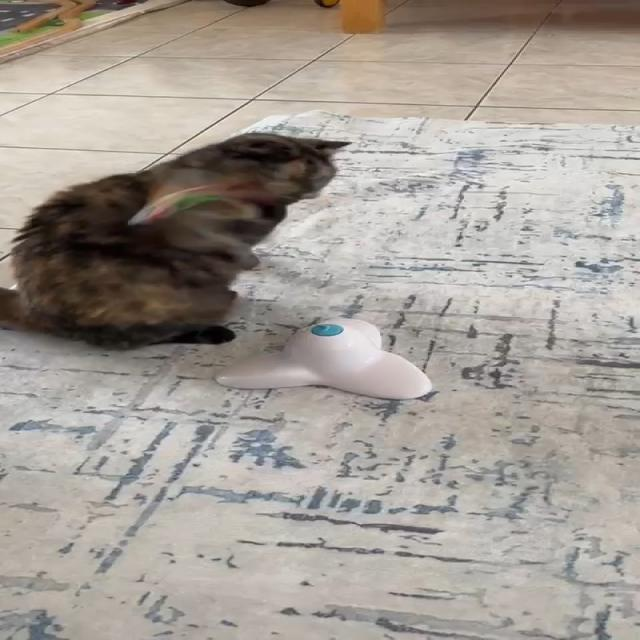authorized: (0, 131, 352, 350)
